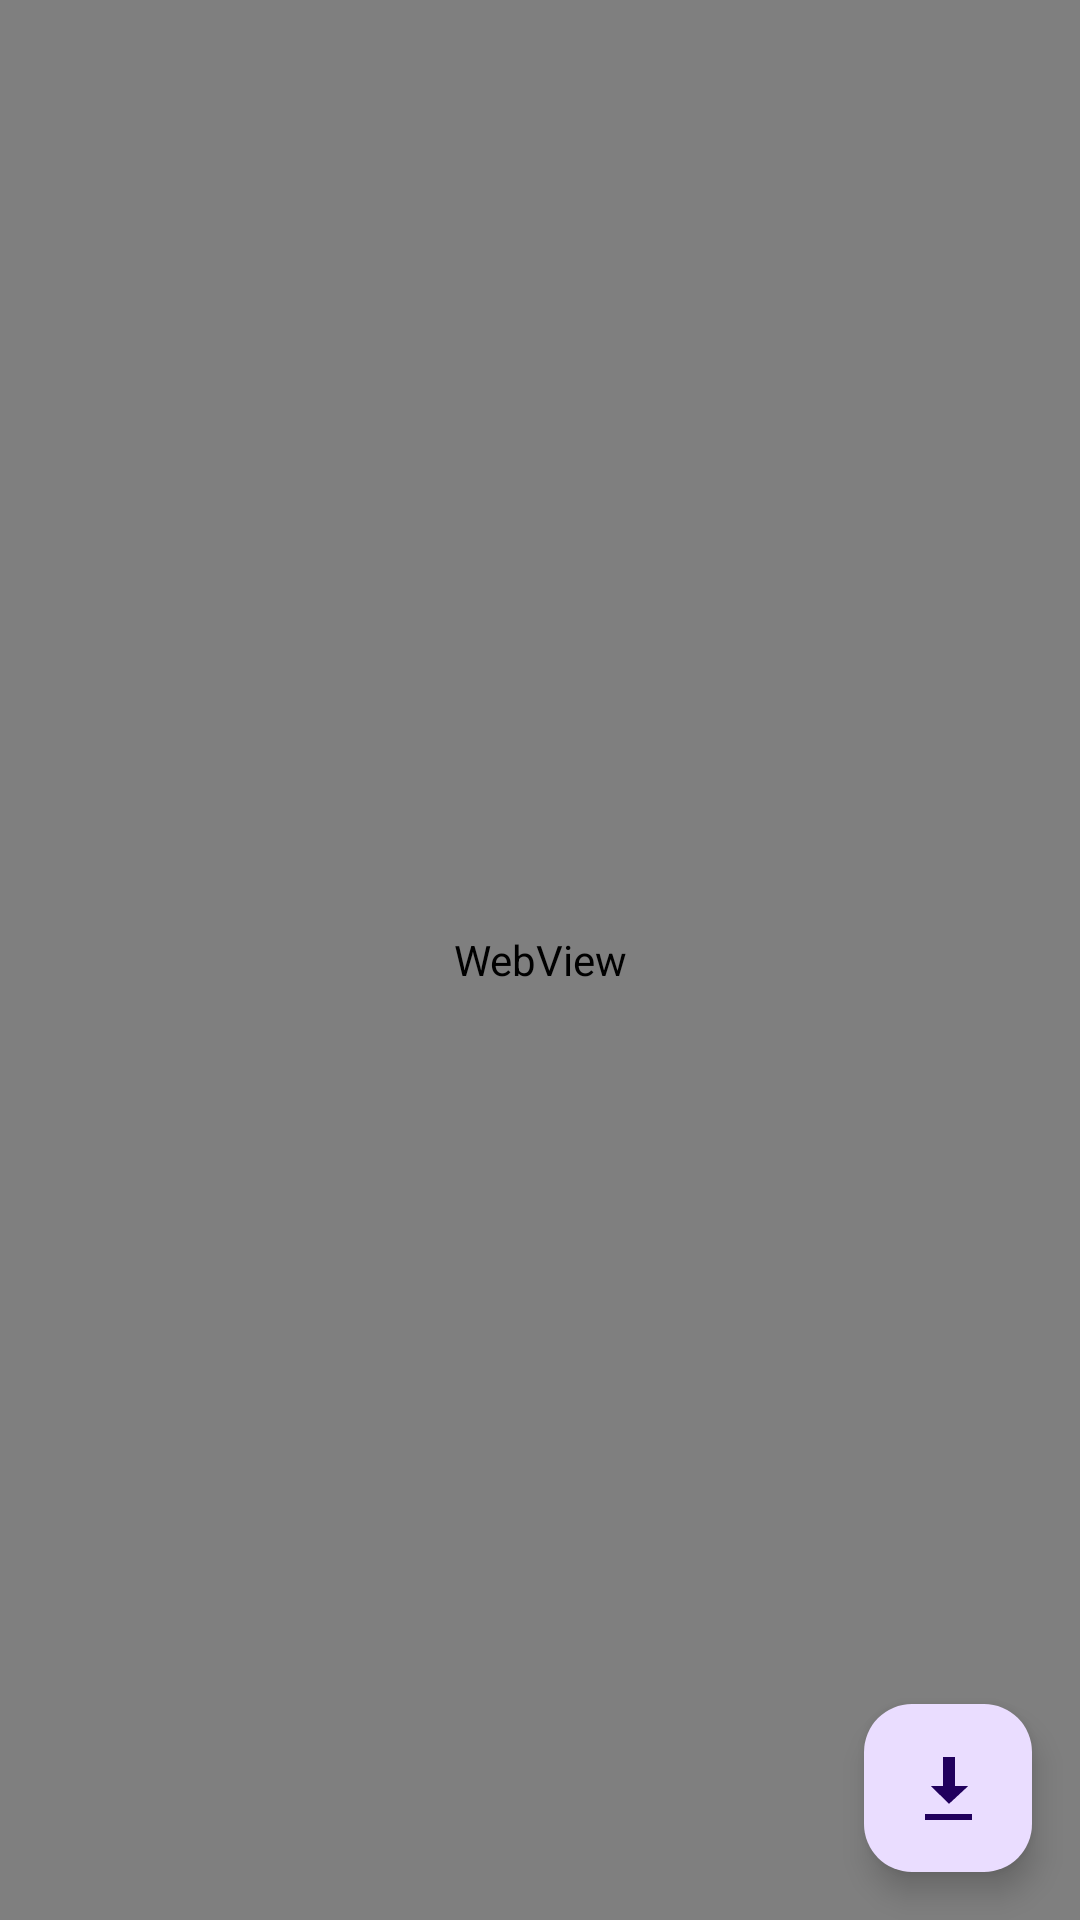

Named icons in this screenshot (1080w x 1920h) and their centers, (x=x, y=y):
Downloads: (x=948, y=1788)
